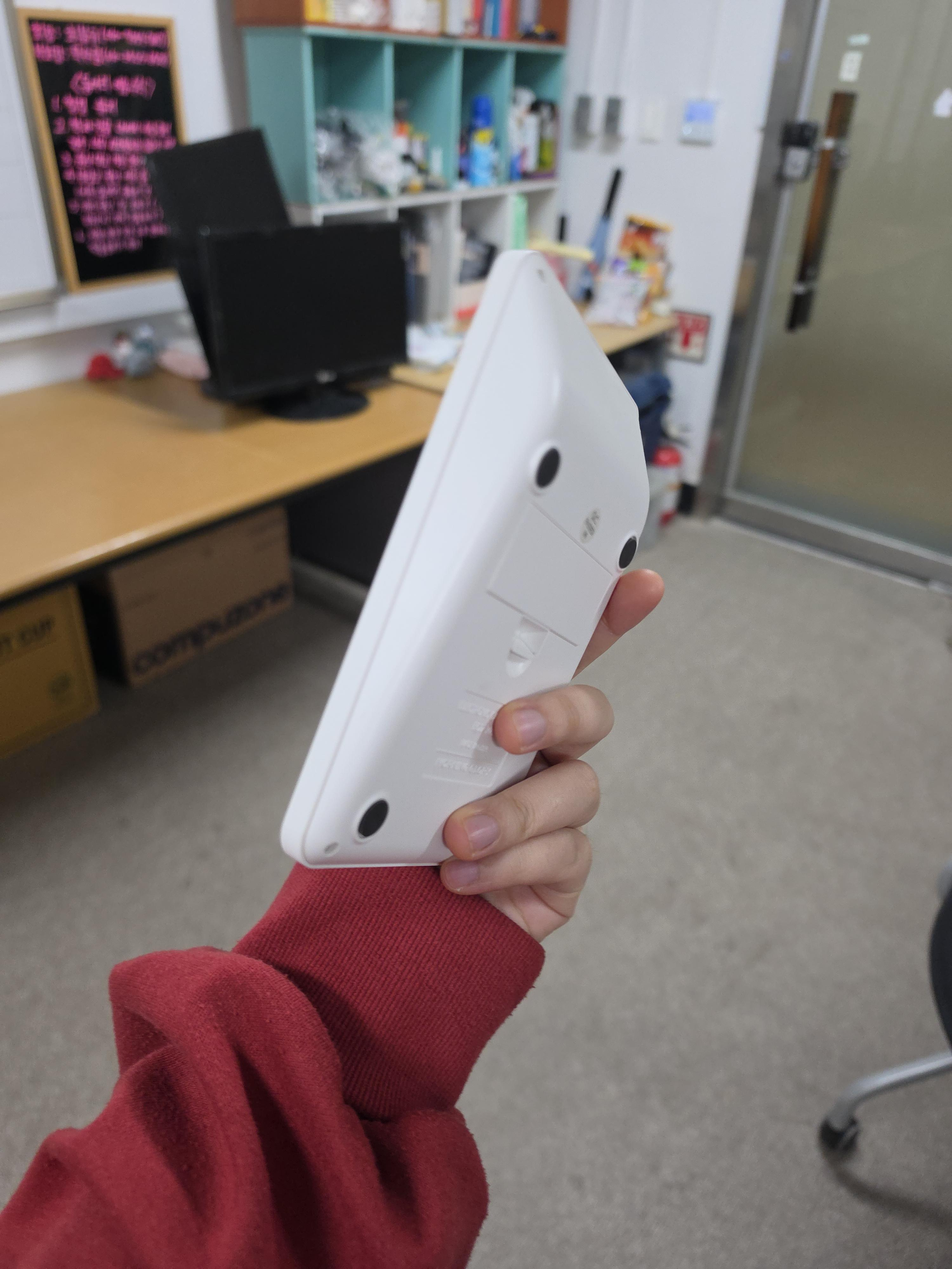calculator: (279, 248, 651, 869)
